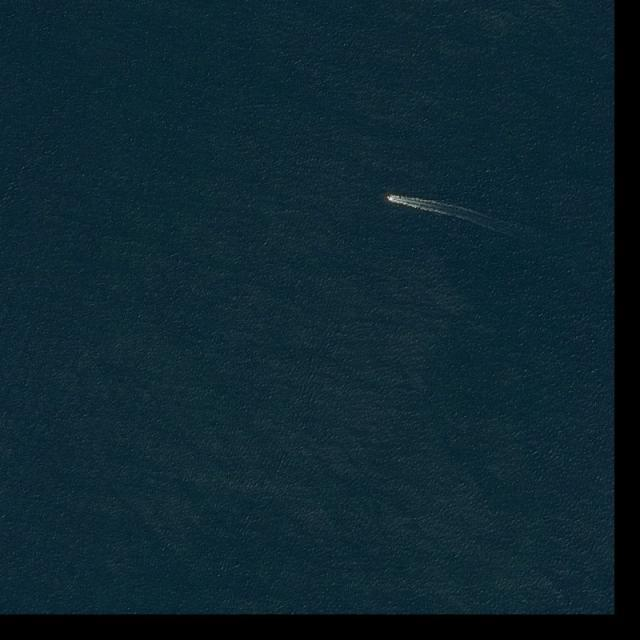ship: (386, 195, 393, 201)
